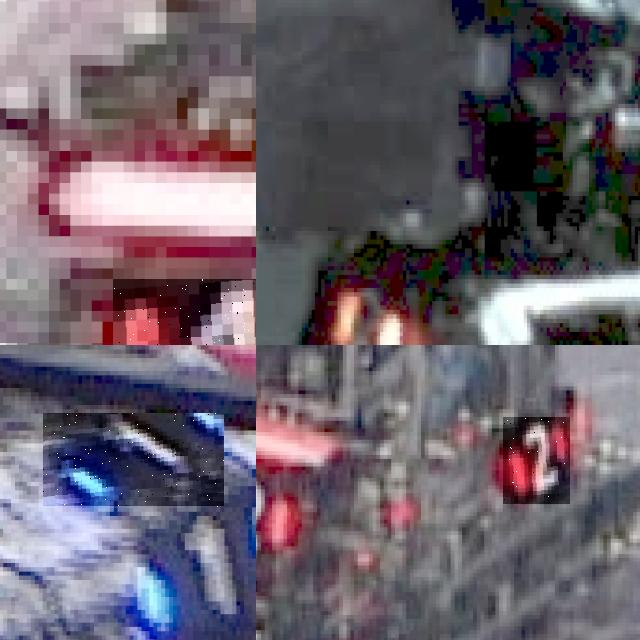B1: (43, 413, 224, 508), (137, 503, 256, 618)
R2: (503, 417, 570, 504), (256, 474, 290, 554)
R4: (113, 278, 256, 345)
